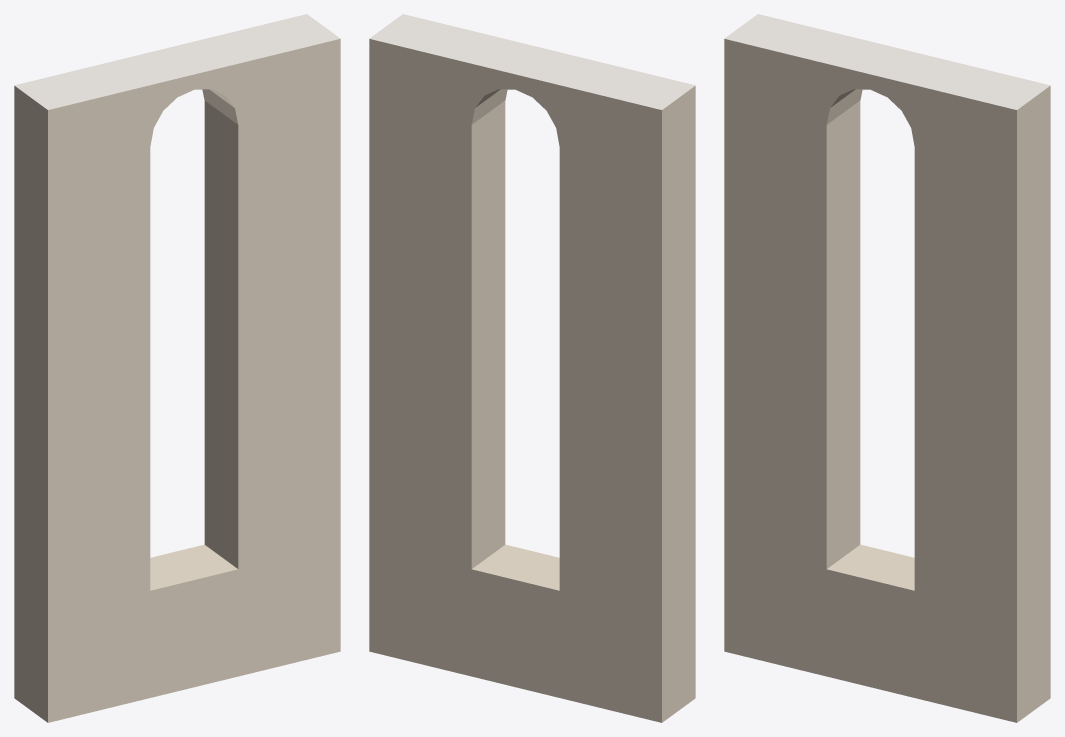
The model's file is Wall_Straight_Window_Tall.glb.
3 views of the same model, side by side, from view 1: azimuth 30°, elevation 25°; view 2: azimuth 150°, elevation 25°; view 3: azimuth 330°, elevation 25° (orthographic).
Parts seen in each view (by area): view 1: Wall_Straight_Window_Tall; view 2: Wall_Straight_Window_Tall; view 3: Wall_Straight_Window_Tall.
Boxes of the visible parts, bbox=[...] form: Wall_Straight_Window_Tall: bbox=[14, 14, 340, 722]; Wall_Straight_Window_Tall: bbox=[369, 14, 695, 722]; Wall_Straight_Window_Tall: bbox=[724, 14, 1050, 722].
Size of the model in its own units: 1 by 2 by 0.2.
